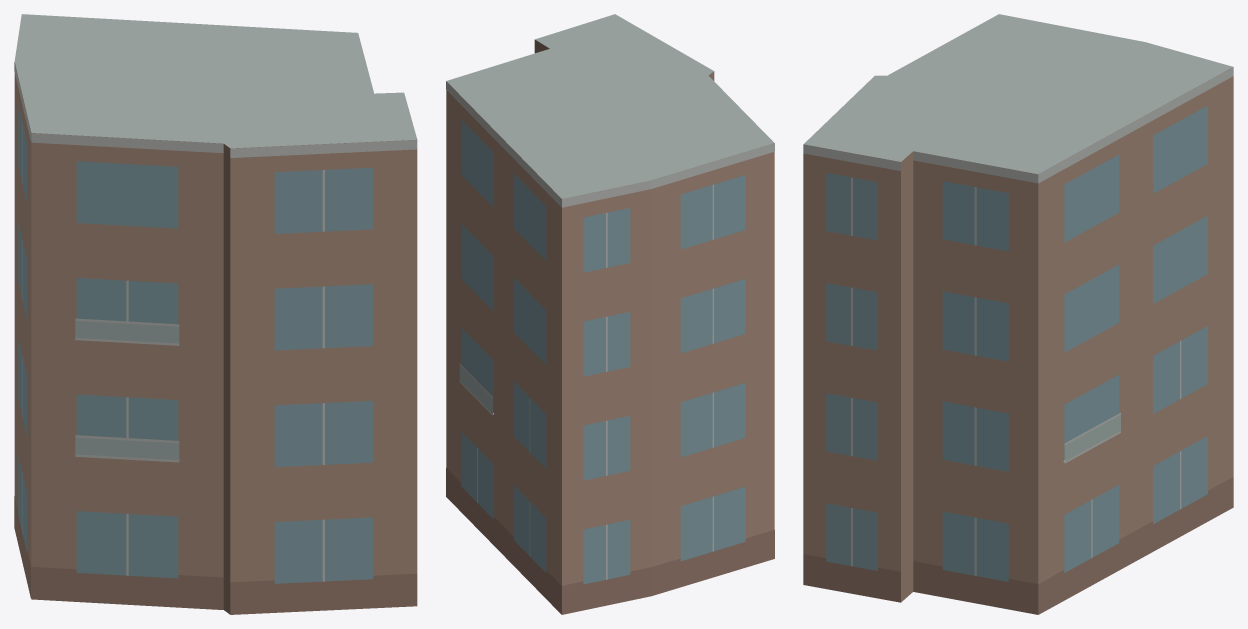
The model's file is survey-upis-32485980.glb.
3 renders of one model, left to right at view 1: azimuth 30°, elevation 25°; view 2: azimuth 150°, elevation 25°; view 3: azimuth 270°, elevation 25°, orthographic. The views are drawn at different scales.
Visible parts, largest first — view 1: survey-upis-32485980.tmp; view 2: survey-upis-32485980.tmp; view 3: survey-upis-32485980.tmp.
Boxes of the visible parts, box(x1,y1,x2,y2) form: survey-upis-32485980.tmp: box(14, 14, 417, 614); survey-upis-32485980.tmp: box(446, 14, 774, 614); survey-upis-32485980.tmp: box(803, 14, 1233, 614).
Size of the model in its own units: 9.14 by 11.7 by 10.36.
